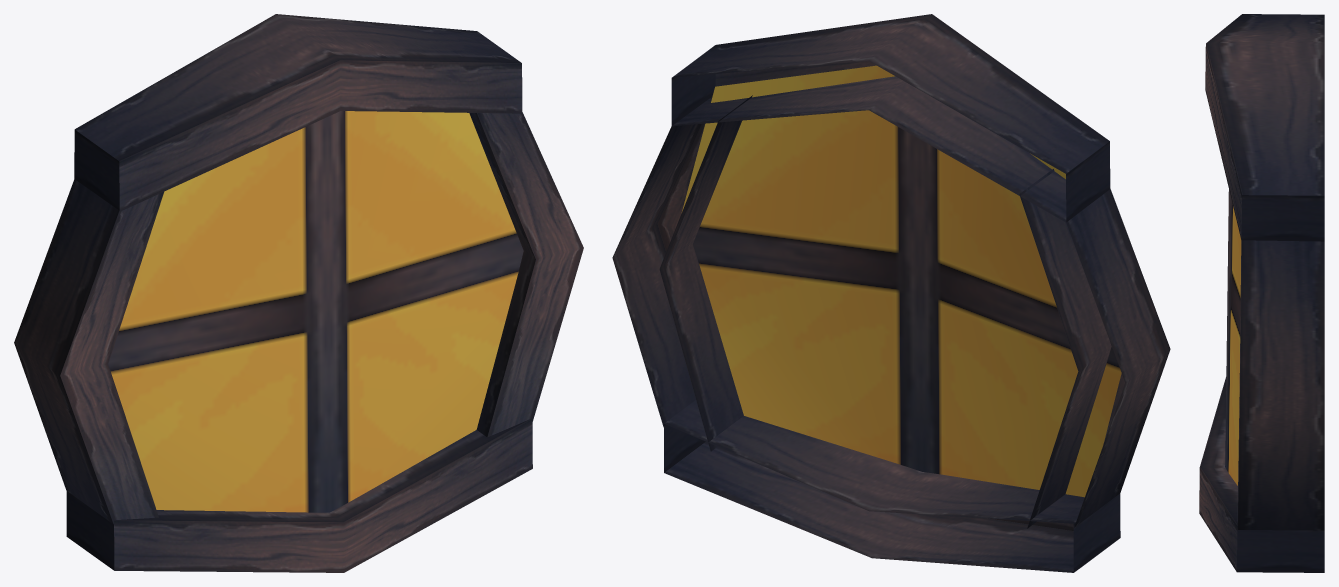
The model's file is Window_E.fbx.
The picture shows the model from 3 angles, left to right: view 1: azimuth 30°, elevation 25°; view 2: azimuth 150°, elevation 25°; view 3: azimuth 270°, elevation 25°; orthographic projection. The views are drawn at different scales.
Parts seen in each view (by area): view 1: Window_E; view 2: Window_E; view 3: Window_E.
Boxes of the visible parts, bbox=[...] form: Window_E: bbox=[14, 14, 583, 572]; Window_E: bbox=[612, 14, 1170, 572]; Window_E: bbox=[1199, 14, 1324, 572].
Bounding box in the file's own units: 39.3 × 36.62 × 8.86.
Materials: 1 (1 with a texture image).
